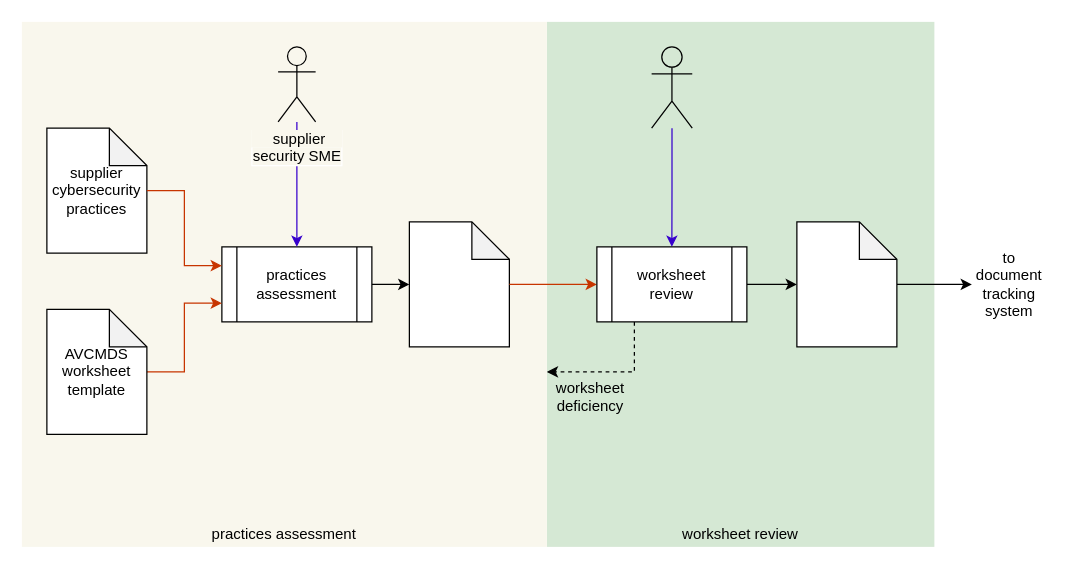
Image size: 1068x568. Some labels were removed from this diagram. The box of each missing label's shape, as (x1, y1, x2, y2) in pixels:
AVCMDS worksheet (draft): (408, 221, 509, 347)
AVCMDS worksheet (final): (796, 221, 897, 347)
customer security SME: (650, 46, 692, 128)
